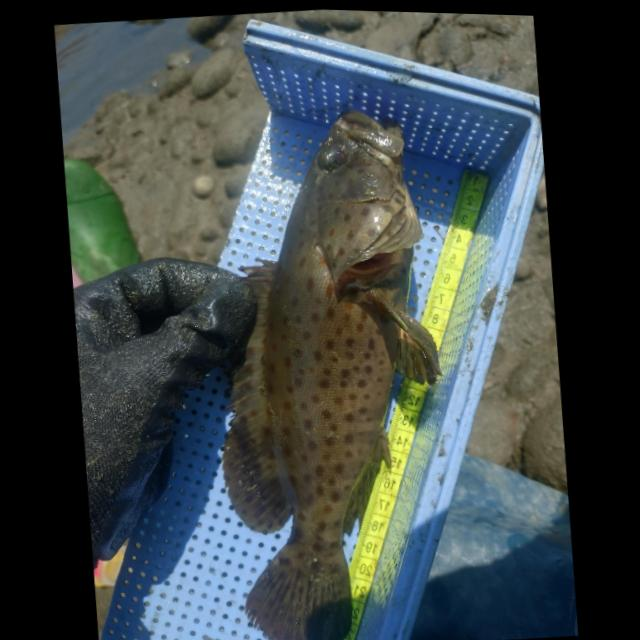Groupers: (184, 98, 462, 640)
